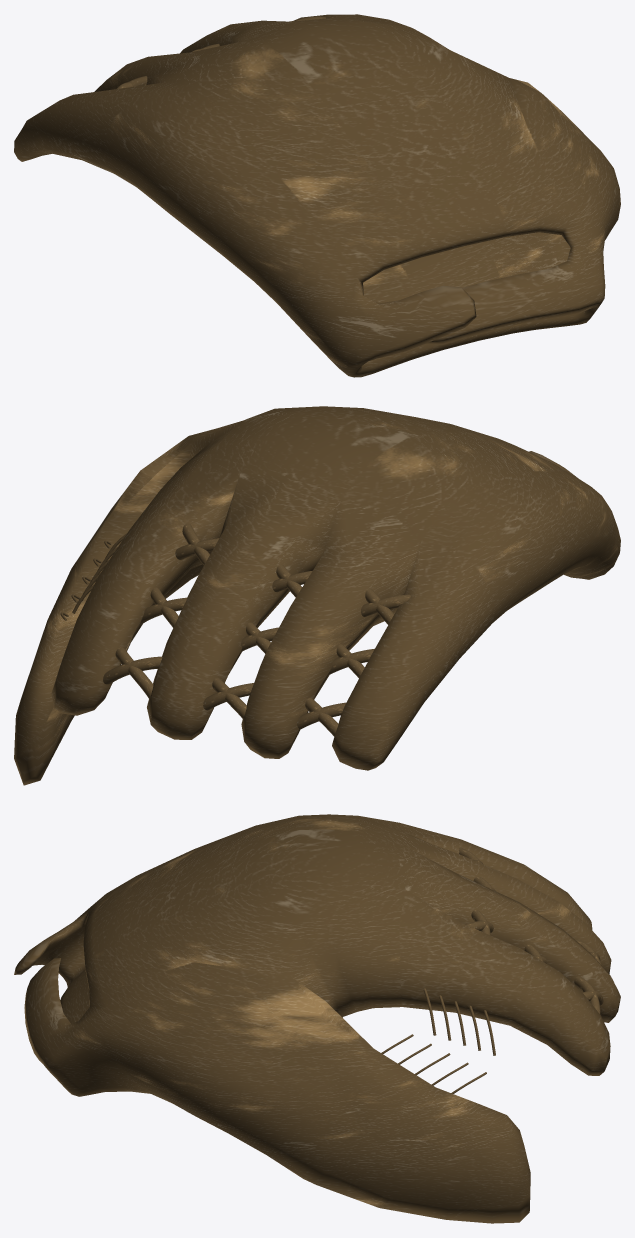
File: glove.fbx
The picture shows the model from 3 angles, top to bottom: view 1: azimuth 30°, elevation 25°; view 2: azimuth 150°, elevation 25°; view 3: azimuth 270°, elevation 25°; orthographic projection. The views are drawn at different scales.
Visible parts, largest first — view 1: glove low; view 2: glove low; view 3: glove low.
Boxes of the visible parts, x1,y1,x2,y2 form: glove low: (14,14,620,377); glove low: (14,406,620,785); glove low: (14,814,620,1223).
Size of the model in its own units: 236 by 161 by 309.
Materials: 1 (1 with a texture image).
